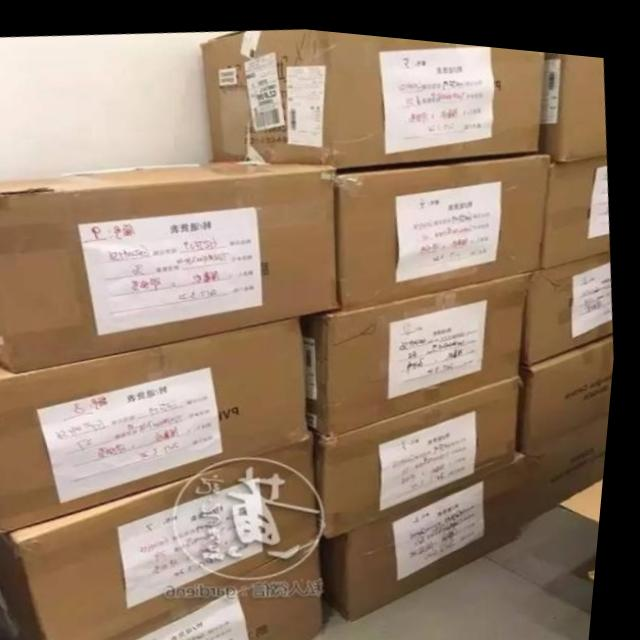box: (0, 157, 344, 373), (0, 311, 317, 535), (0, 429, 326, 640), (201, 23, 543, 162), (305, 264, 533, 429), (337, 142, 549, 305), (326, 448, 532, 615), (322, 364, 528, 528), (122, 534, 338, 640), (525, 321, 619, 447), (528, 240, 617, 357), (527, 408, 615, 511), (544, 144, 613, 261), (537, 41, 608, 152)
